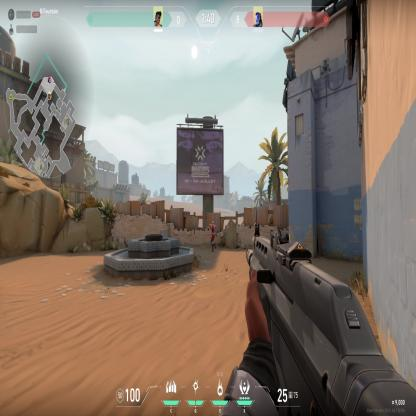enemy: (209, 219, 216, 253)
